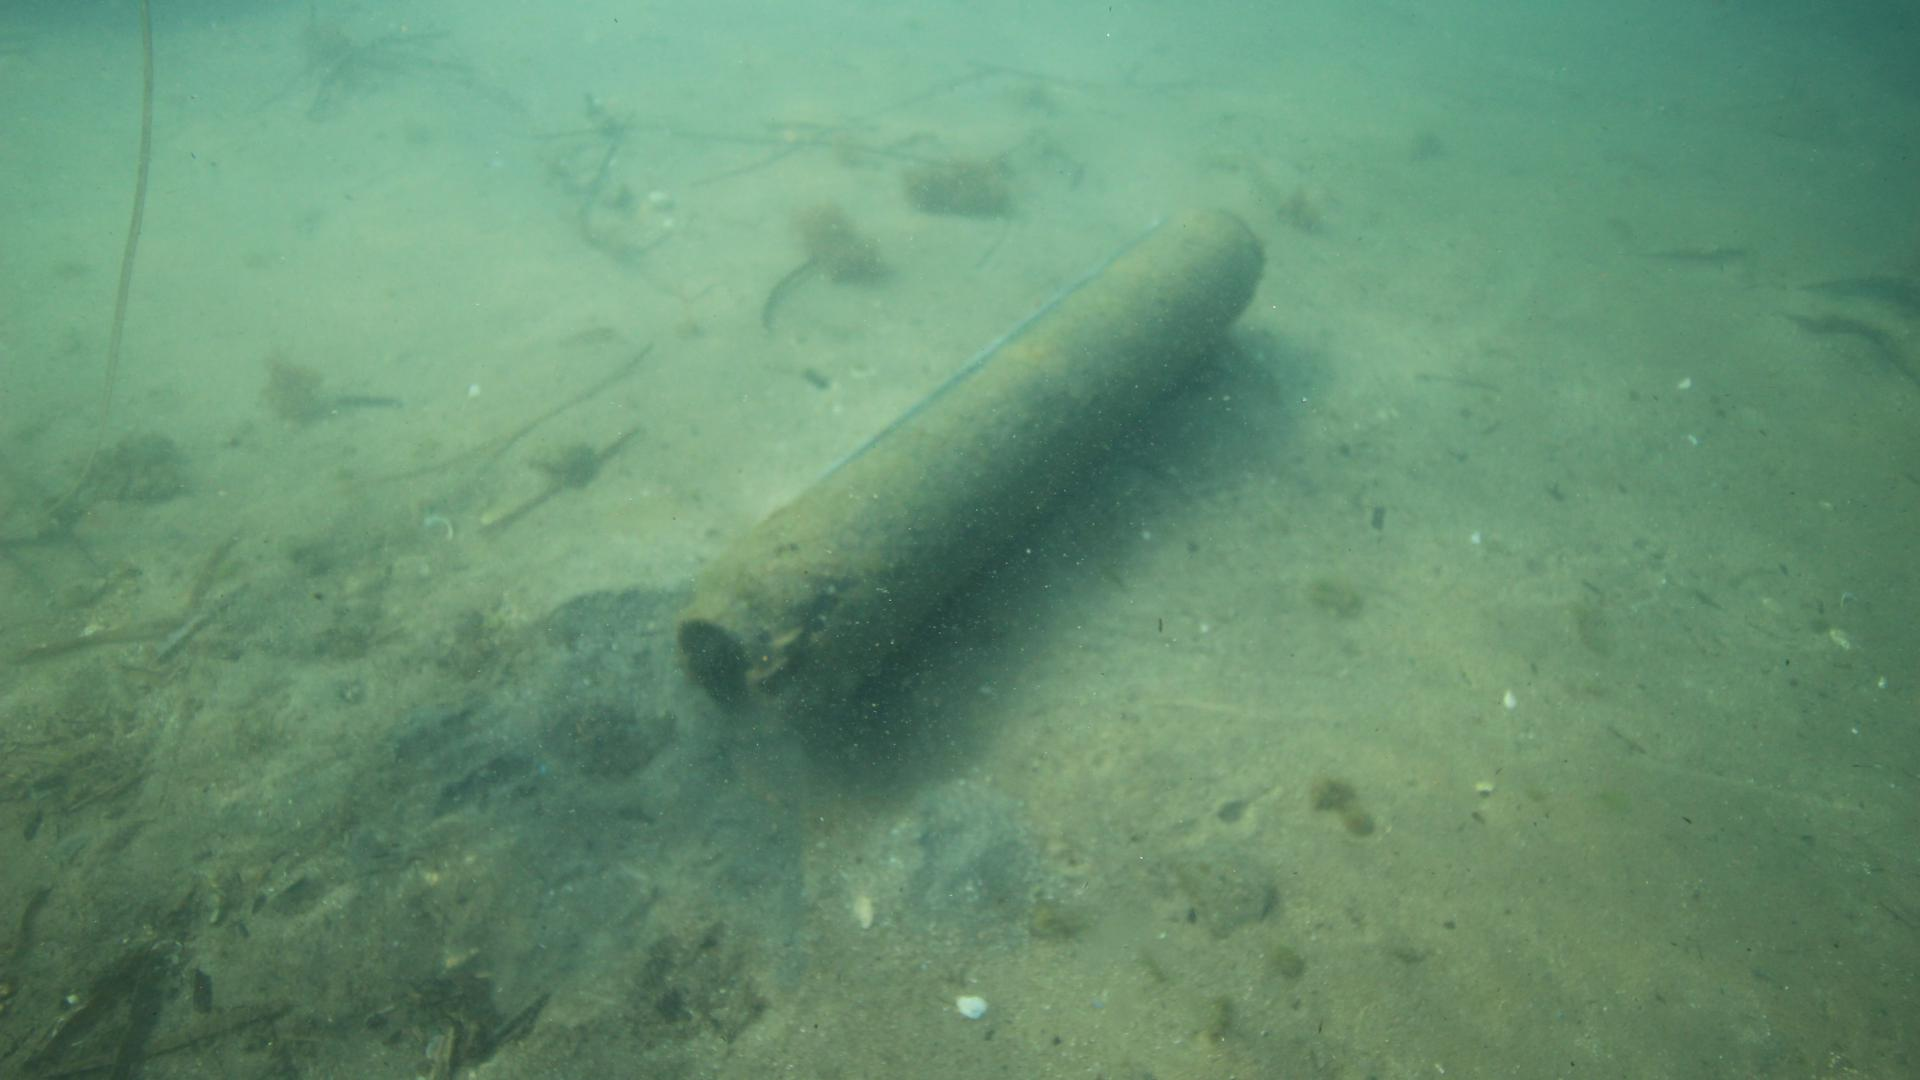eel fish trap: (670, 202, 1265, 723)
